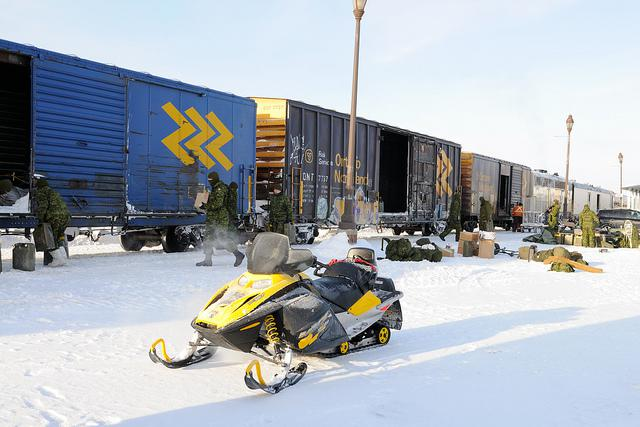Train: (0, 39, 614, 249)
